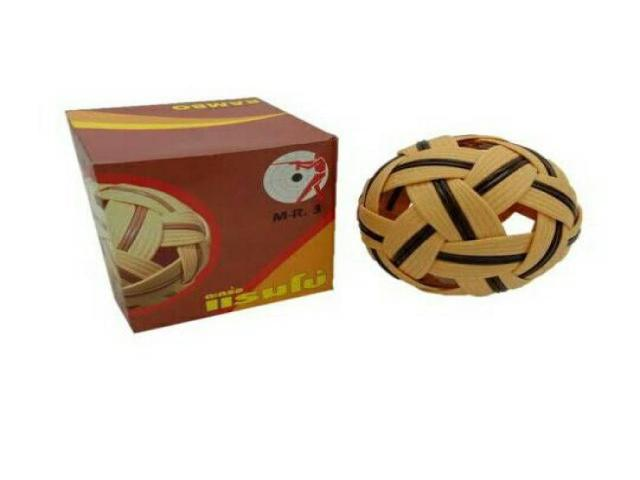round ball: (358, 136, 581, 295)
